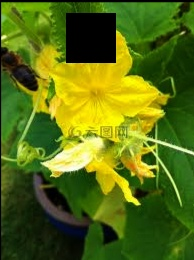cucumber_plant: (41, 26, 169, 232)
